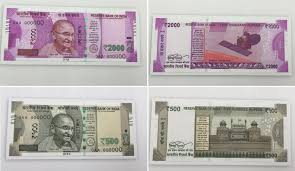fiveHundred: (15, 109, 124, 146)
